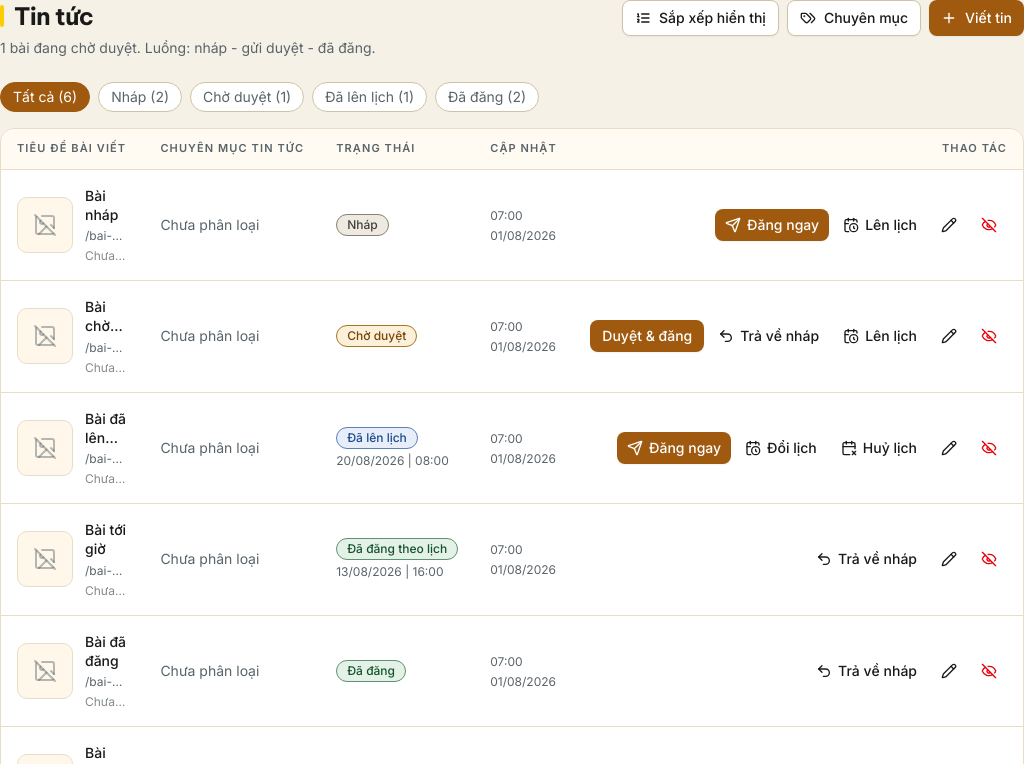
Scenario: NewsPage — đổi lịch, huỷ lịch, đăng ngay › Đổi lịch nạp sẵn mốc hiện tại theo giờ Việt Nam
What coordinates should you click on to do the following:
click the button "Đổi lịch"
I would click on:
 (781, 448)
Its box is [735,432,827,464].
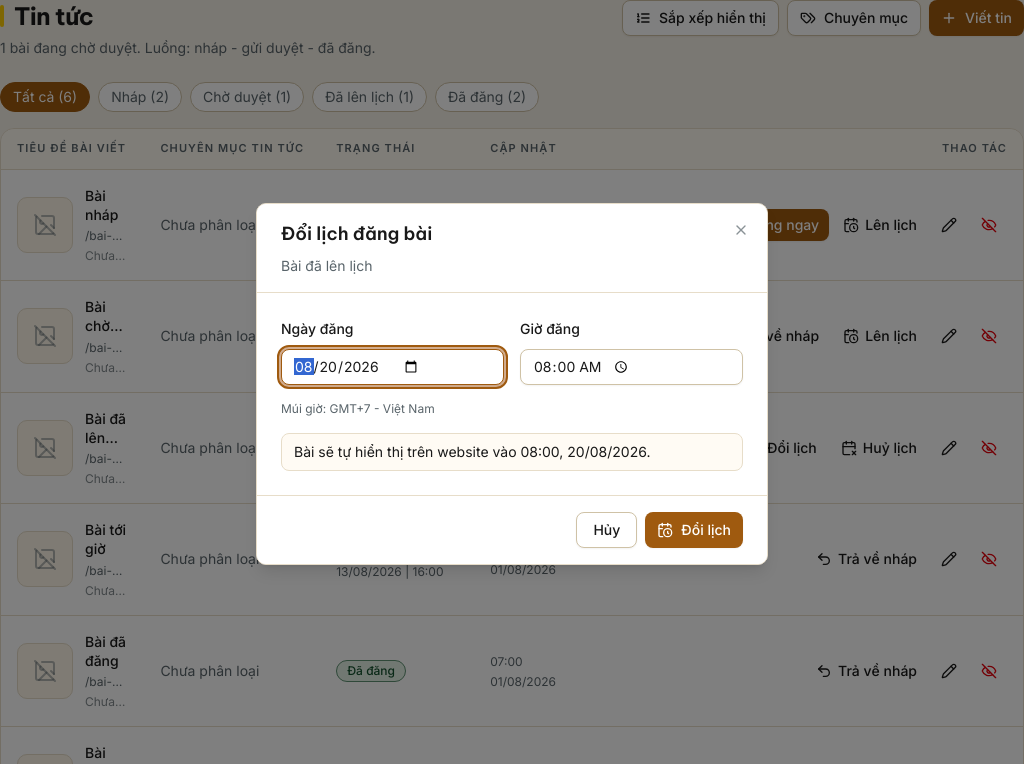
Now the date field labelled "Ngày đăng" holds "2026-08-20", box [281,349,504,385]
Now the time field labelled "Giờ đăng" holds "08:00", box [520,349,743,385]
Now the heading "Đổi lịch đăng bài" is shown, box [281,222,432,245]
